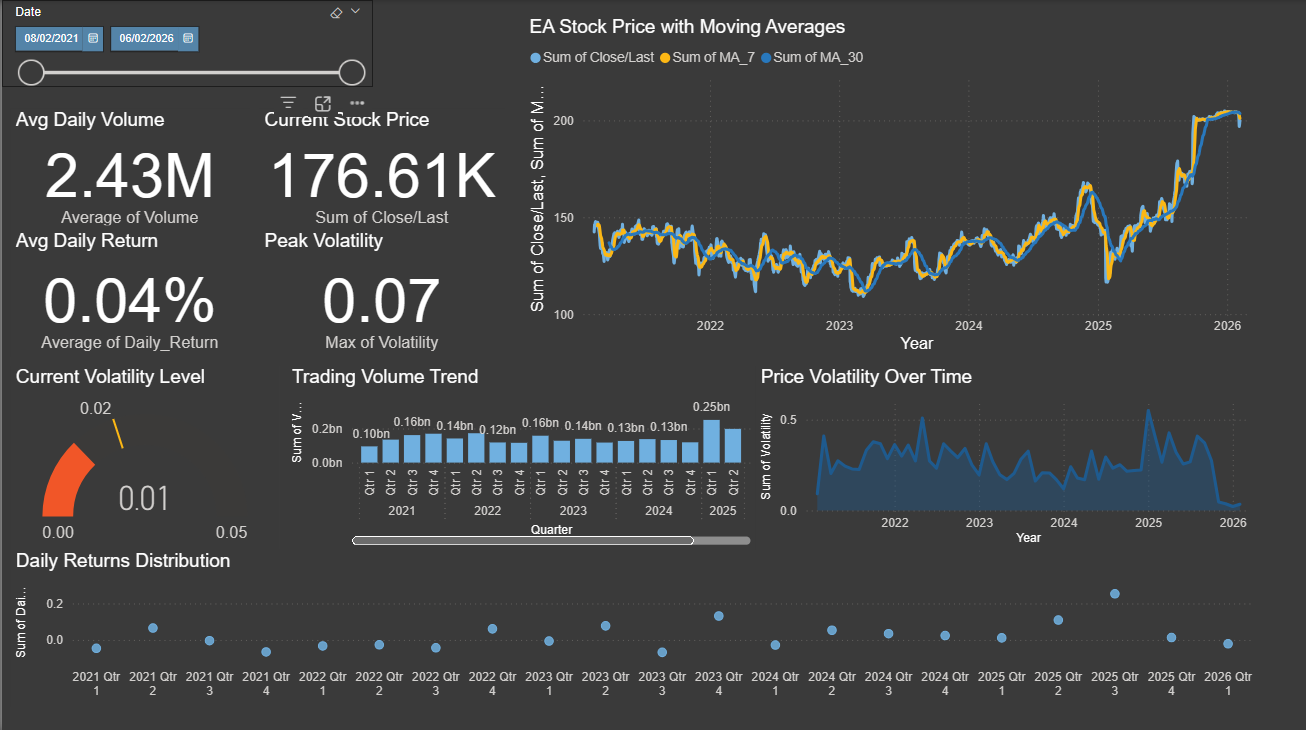

What the dashboard file says about the page in this screenshot:
{"tool":"powerbi","page":{"name":"Page 1","canvas":[1280,720],"ordinal":0},"visuals":[{"type":"card","title":"Current Stock Price","fields":{"Values":["Sum(EA_processed_data.Close/Last)"]},"box":[252.8,106.7,240.5,119],"z":1000},{"type":"card","title":"Avg Daily Volume","fields":{"Values":["Avg(EA_processed_data.Volume)"]},"box":[8.6,106.7,234.4,119],"z":2000},{"type":"card","title":"Peak Volatility","fields":{"Values":["Max(EA_processed_data.Volatility)"]},"box":[252.8,225.8,240.5,125.2],"z":3000},{"type":"card","title":"Avg Daily Return","fields":{"Values":["Avg(EA_processed_data.Daily_Return)"]},"box":[8.6,225.8,234.4,125.2],"z":4000},{"type":"columnChart","title":"Trading Volume Trend","fields":{"Y":["Sum(EA_processed_data.Volume)"],"Category":["EA_processed_data.Date.Variation.Date Hierarchy.Year","EA_processed_data.Date.Variation.Date Hierarchy.Quarter","EA_processed_data.Date.Variation.Date Hierarchy.Month","EA_processed_data.Date.Variation.Date Hierarchy.Day"]},"box":[279.8,359.5,460.1,180.4],"z":5000},{"type":"areaChart","title":"Price Volatility Over Time","fields":{"Category":["EA_processed_data.Date.Variation.Date Hierarchy.Year","EA_processed_data.Date.Variation.Date Hierarchy.Quarter","EA_processed_data.Date.Variation.Date Hierarchy.Month","EA_processed_data.Date.Variation.Date Hierarchy.Day"],"Y":["Sum(EA_processed_data.Volatility)"]},"box":[739.9,359.5,494.5,180.4],"z":6000},{"type":"scatterChart","title":"Daily Returns Distribution","fields":{"X":["EA_processed_data.Date.Variation.Date Hierarchy.Year","EA_processed_data.Date.Variation.Date Hierarchy.Quarter","EA_processed_data.Date.Variation.Date Hierarchy.Month","EA_processed_data.Date.Variation.Date Hierarchy.Day"],"Y":["Sum(EA_processed_data.Daily_Return)"]},"box":[8.6,539.9,1225.8,153.4],"z":7000},{"type":"lineChart","title":"EA Stock Price with Moving Averages","fields":{"Category":["EA_processed_data.Date.Variation.Date Hierarchy.Year","EA_processed_data.Date.Variation.Date Hierarchy.Quarter","EA_processed_data.Date.Variation.Date Hierarchy.Month","EA_processed_data.Date.Variation.Date Hierarchy.Day"],"Y":["Sum(EA_processed_data.Close/Last)","Sum(EA_processed_data.MA_7)","Sum(EA_processed_data.MA_30)"]},"box":[512.9,16,721.5,335],"z":8000},{"type":"gauge","title":"Current Volatility Level","fields":{"Y":["Avg(EA_processed_data.Volatility)"]},"box":[8.6,359.5,263.8,180.4],"z":9000},{"type":"slicer","fields":{"Values":["EA_processed_data.Date"]},"box":[0,0,364.4,86],"z":10000}]}

Visuals, with their boxes in screenshot pixels (x1, y1, x2, y2), scaled from the page's 1280x720 canvas onto the 1306x730 screenshot:
"Current Stock Price" card: detection(258, 108, 503, 229)
"Avg Daily Volume" card: detection(9, 108, 248, 229)
"Peak Volatility" card: detection(258, 229, 503, 356)
"Avg Daily Return" card: detection(9, 229, 248, 356)
"Trading Volume Trend" columnChart: detection(285, 364, 755, 547)
"Price Volatility Over Time" areaChart: detection(755, 364, 1259, 547)
"Daily Returns Distribution" scatterChart: detection(9, 547, 1259, 703)
"EA Stock Price with Moving Averages" lineChart: detection(523, 16, 1259, 356)
"Current Volatility Level" gauge: detection(9, 364, 278, 547)
slicer - EA_processed_data.Date: detection(0, 0, 372, 87)
